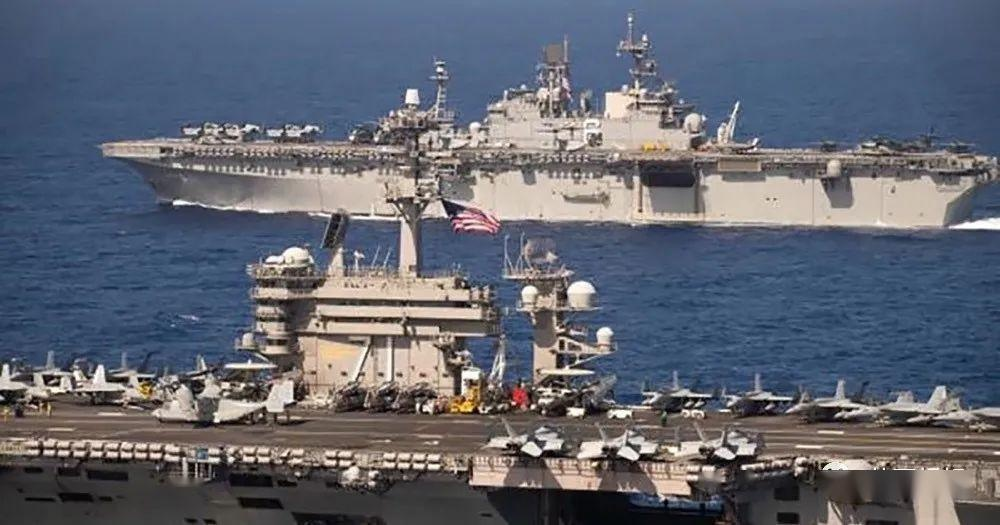warship: (3, 197, 1000, 525), (85, 10, 1000, 229)
